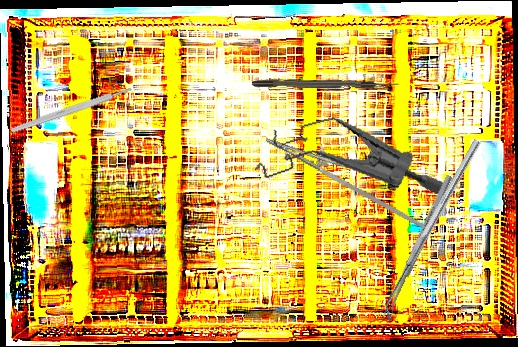Hook Surgical: (251, 78, 401, 90)
Needle Holder: (256, 124, 438, 229)
Scalpel Handle: (10, 85, 133, 135)
Spatula Surgical: (377, 138, 488, 322)
Speculum: (246, 91, 451, 240)
Surgical Spoon: (381, 173, 455, 320)
